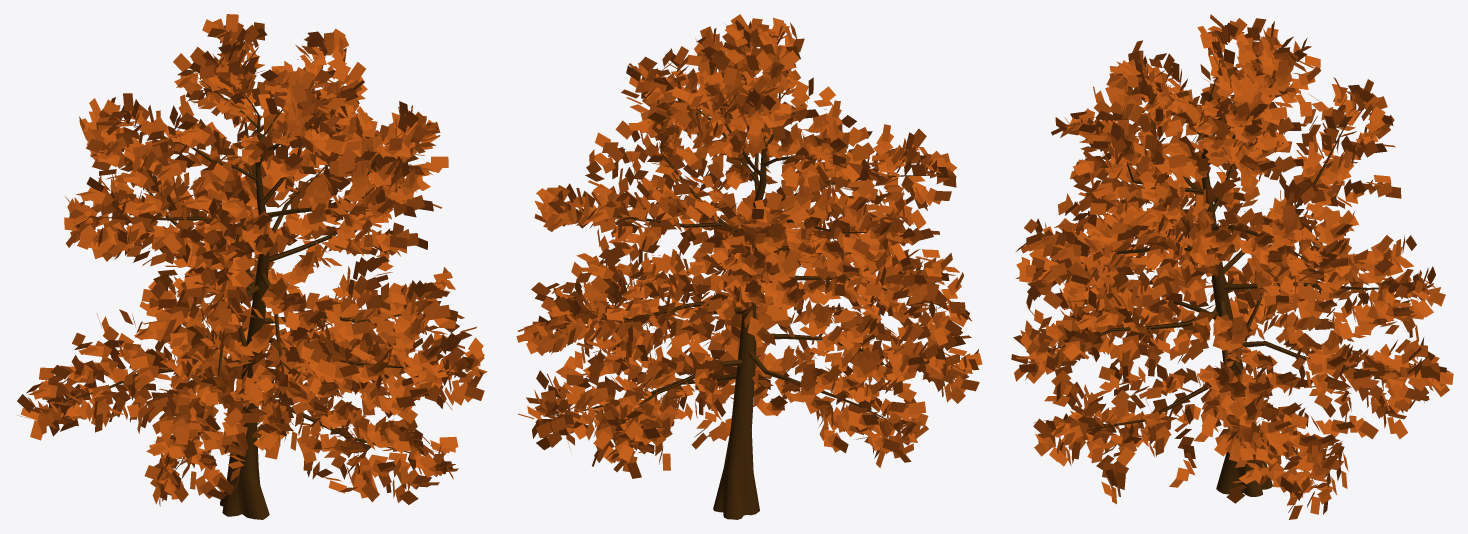
Rendered from tree1.FBX.
3 views of the same model, side by side, from view 1: azimuth 30°, elevation 25°; view 2: azimuth 150°, elevation 25°; view 3: azimuth 270°, elevation 25° (orthographic). The views are drawn at different scales.
Visible parts, largest first — view 1: Foliage001; view 2: Foliage001; view 3: Foliage001.
Boxes of the visible parts, box(x1,y1,x2,y2) form: Foliage001: box(17, 14, 487, 519); Foliage001: box(516, 14, 982, 519); Foliage001: box(1011, 14, 1453, 519).
Size of the model in its own units: 340 by 368 by 323.
